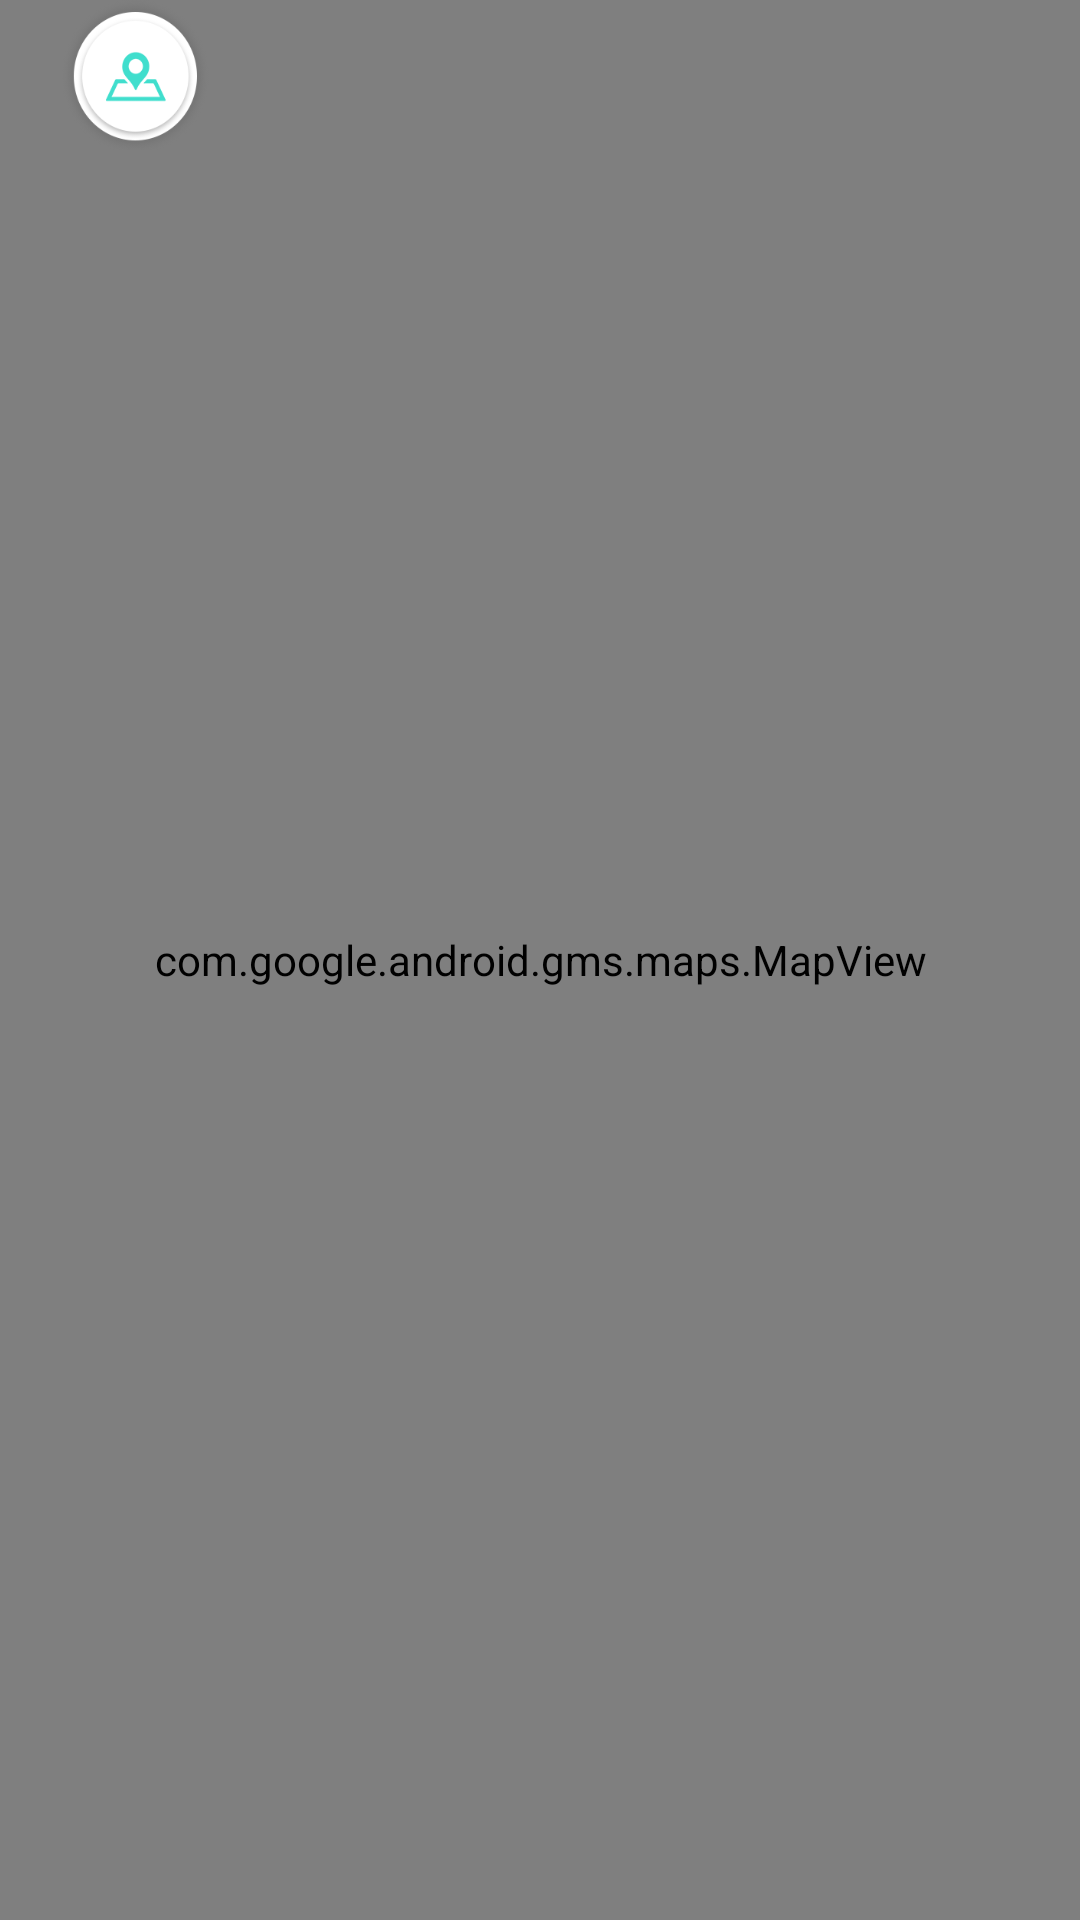

Icons on this 1080w x 1920h Android screen, each with the point to tap as (x=x, y=y):
water map nt: (x=135, y=76)
